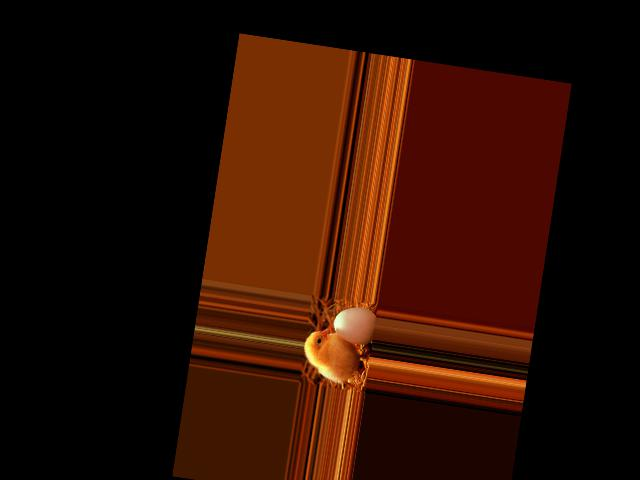egg: (331, 304, 378, 347)
